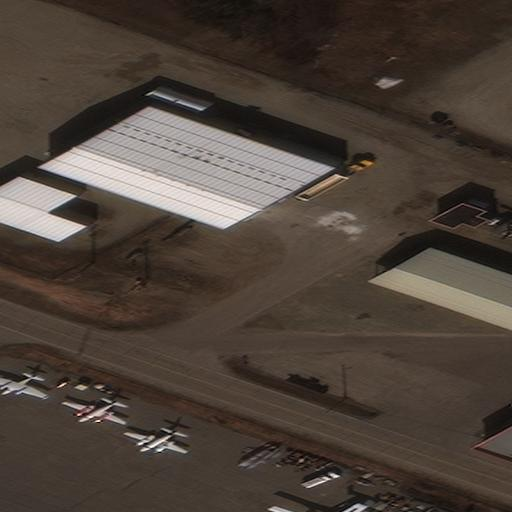Small Civil Transport: (60, 401, 124, 426), (121, 430, 185, 454), (0, 375, 44, 399)
